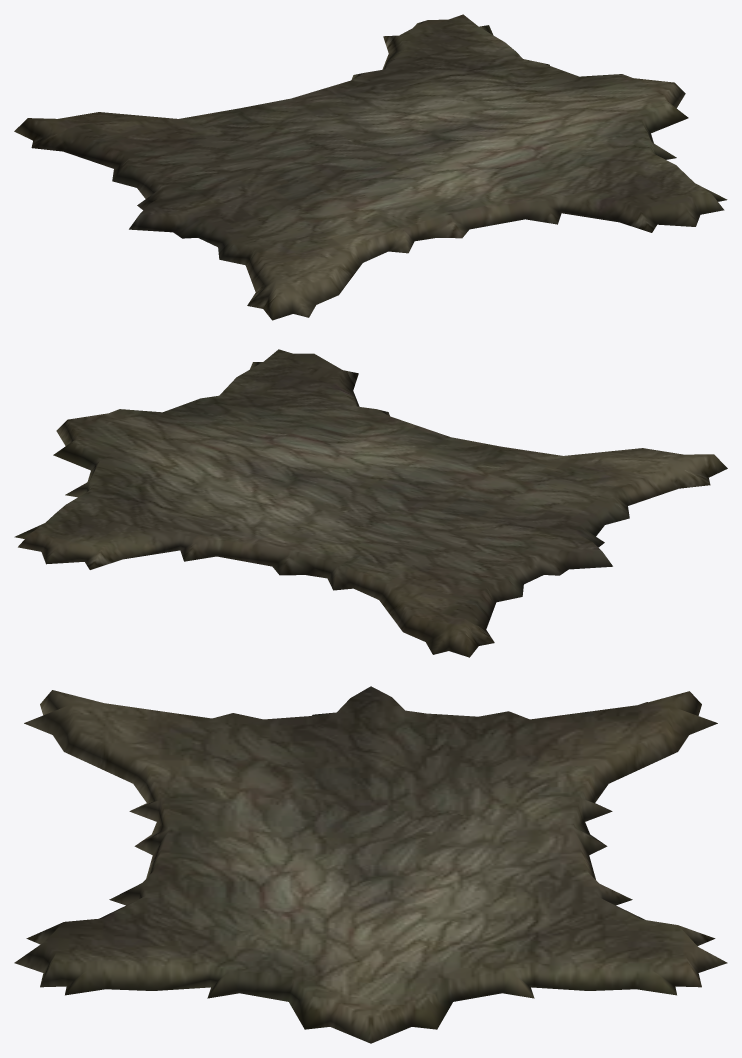
3 views of the same model, one above another, from view 1: azimuth 30°, elevation 25°; view 2: azimuth 150°, elevation 25°; view 3: azimuth 270°, elevation 25° (orthographic). The views are drawn at different scales.
Size of the model in its own units: 5.85 by 0.1576 by 5.06.
Materials: 1 (1 with a texture image).
